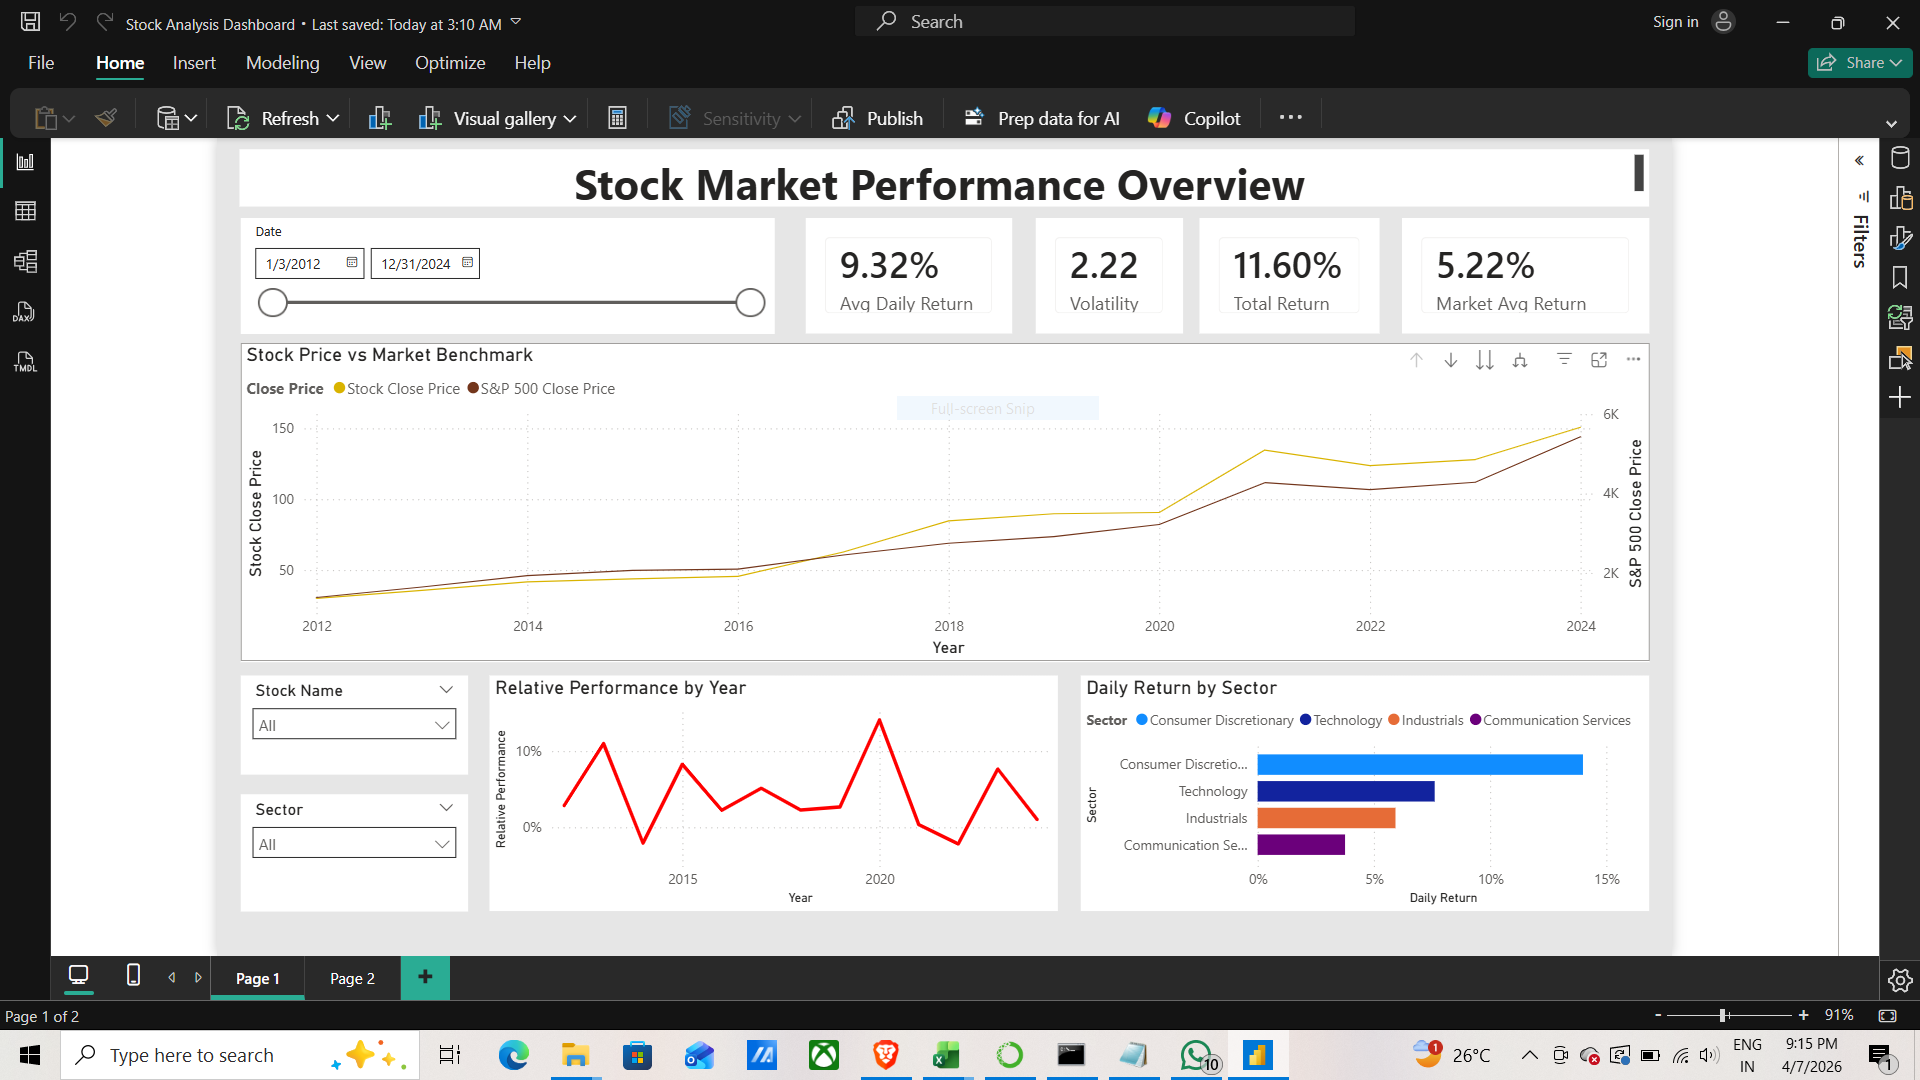

What the dashboard file says about the page in this screenshot:
{"tool":"powerbi","page":{"name":"Page 1","canvas":[1280,720],"ordinal":0},"visuals":[{"type":"textbox","box":[20,10,1240,50],"z":0},{"type":"slicer","fields":{"Values":["Dim_Date.Date"]},"box":[20.6,70.2,469.7,101.7],"z":1000},{"type":"slicer","title":"Stock Name","fields":{"Values":["Dim_Stock.Stock_Name"]},"box":[20.6,473.3,199.7,87.2],"z":2000},{"type":"slicer","fields":{"Values":["Dim_Stock.Sector"]},"box":[20.6,577.4,199.7,102.9],"z":3000},{"type":"lineChart","title":"Stock Price vs Market Benchmark","fields":{"Category":["Dim_Date.Date.Variation.Date Hierarchy.Year","Dim_Date.Date.Variation.Date Hierarchy.Quarter","Dim_Date.Date.Variation.Date Hierarchy.Month","Dim_Date.Date.Variation.Date Hierarchy.Day"],"Y":["Avg(Fact_StockPrices.Close_Price)"],"Y2":["Avg(Fact_SP500.Close_Price)"]},"box":[20.6,180.4,1239.5,280.8],"z":4000},{"type":"lineChart","fields":{"Category":["Dim_Date.Date.Variation.Date Hierarchy.Year","Dim_Date.Date.Variation.Date Hierarchy.Quarter","Dim_Date.Date.Variation.Date Hierarchy.Month","Dim_Date.Date.Variation.Date Hierarchy.Day"],"Y":["Measure.Relative Performance"]},"box":[239.7,473.3,499.9,207],"z":5000},{"type":"barChart","title":"Daily Return by Sector","fields":{"Category":["Dim_Stock.Sector"],"Y":["Measure.Avg Daily Return"],"Series":["Dim_Stock.Sector"]},"box":[760.2,473.3,499.9,207],"z":6000},{"type":"cardVisual","fields":{"Data":["Measure.Avg Daily Return"]},"box":[518.1,70.2,181.6,101.7],"z":7000},{"type":"cardVisual","fields":{"Data":["Measure.Volatility"]},"box":[720.2,70.2,129.5,101.7],"z":8000},{"type":"cardVisual","fields":{"Data":["Measure.Total Return"]},"box":[864.3,70.2,158.6,101.7],"z":9000},{"type":"cardVisual","fields":{"Data":["Measure.Market Avg Return"]},"box":[1042.2,70.2,217.9,101.7],"z":10000}]}

Visuals, with their boxes on the page's 1280x720 design canvas (x1, y1, x2, y2). These are canvas units, not pixel positions in the 1920x1080 screenshot, which may show the page scaled, cropped or inside an application window:
textbox: bbox=(20, 10, 1260, 60)
slicer - Dim_Date.Date: bbox=(21, 70, 490, 172)
"Stock Name" slicer: bbox=(21, 473, 220, 560)
slicer - Dim_Stock.Sector: bbox=(21, 577, 220, 680)
"Stock Price vs Market Benchmark" lineChart: bbox=(21, 180, 1260, 461)
lineChart - Dim_Date.Date.Variation.Date Hierarchy.Year x Dim_Date.Date.Variation.Date Hierarchy.Quarter: bbox=(240, 473, 740, 680)
"Daily Return by Sector" barChart: bbox=(760, 473, 1260, 680)
cardVisual - Measure.Avg Daily Return: bbox=(518, 70, 700, 172)
cardVisual - Measure.Volatility: bbox=(720, 70, 850, 172)
cardVisual - Measure.Total Return: bbox=(864, 70, 1023, 172)
cardVisual - Measure.Market Avg Return: bbox=(1042, 70, 1260, 172)
